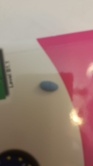Apranax: (39, 80, 60, 93)
